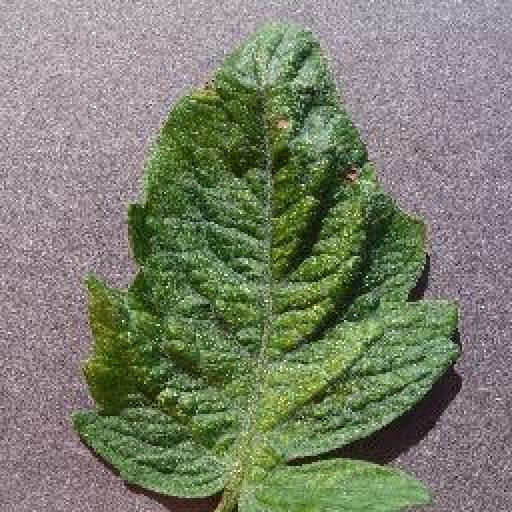disease_tomato: (70, 26, 462, 512)
